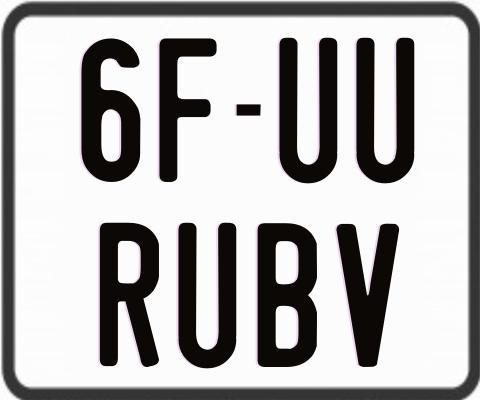6: (81, 35, 141, 183)
B: (255, 220, 319, 370)
F: (157, 35, 215, 180)
R: (97, 222, 157, 372)
U: (279, 35, 342, 186), (175, 220, 238, 367), (356, 37, 418, 183)
V: (333, 223, 398, 370)
